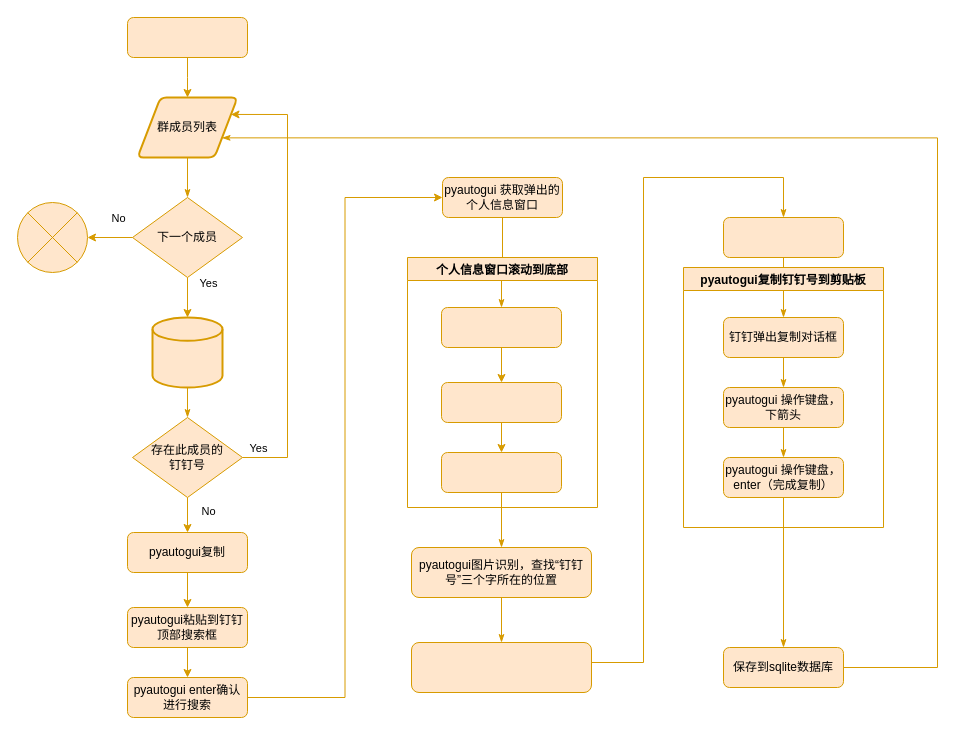
The diagram is 963 pixels wide and 735 high, and some of its shapes have lost their labels. Each missing label, with the centre of its shape:
"pyautogui 右击" belongs at (783,237).
"成员钉钉号sqlite" belongs at (187,352).
"滚动条滚动到底部" belongs at (501,472).
"激活钉钉窗口" belongs at (187,37).
"点击" belongs at (501,402).
"鼠标移动到“钉钉号”坐标+向右偏移一定像素，到达实际钉钉号所在位置" belongs at (501,667).
"鼠标移动到个人信息窗口的右下角" belongs at (501,327).
